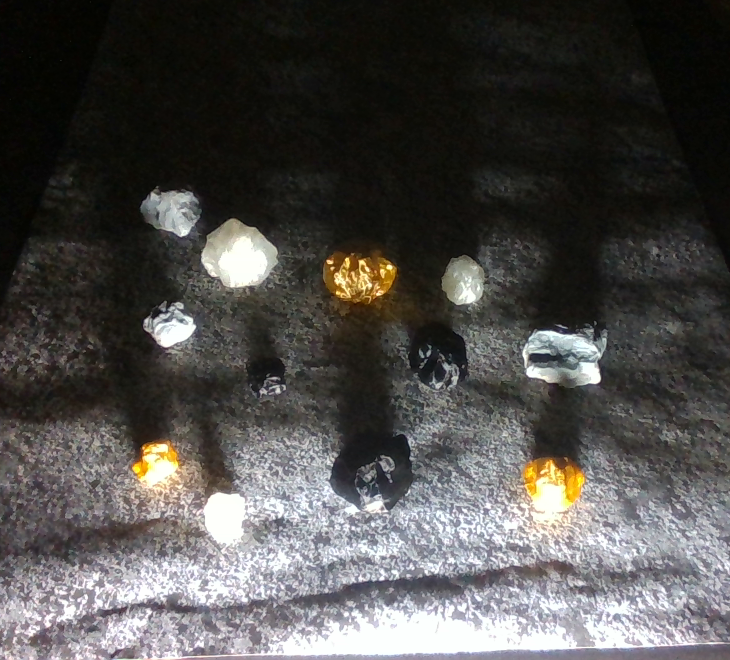anorthosite: (201, 218, 278, 288), (442, 255, 485, 306), (204, 492, 245, 540)
basalt: (328, 428, 412, 505), (408, 321, 468, 389), (245, 356, 286, 397)
metal: (323, 238, 398, 305), (523, 455, 586, 510), (131, 438, 179, 485)
regolith: (521, 316, 604, 390), (139, 181, 201, 238), (142, 298, 197, 348)
